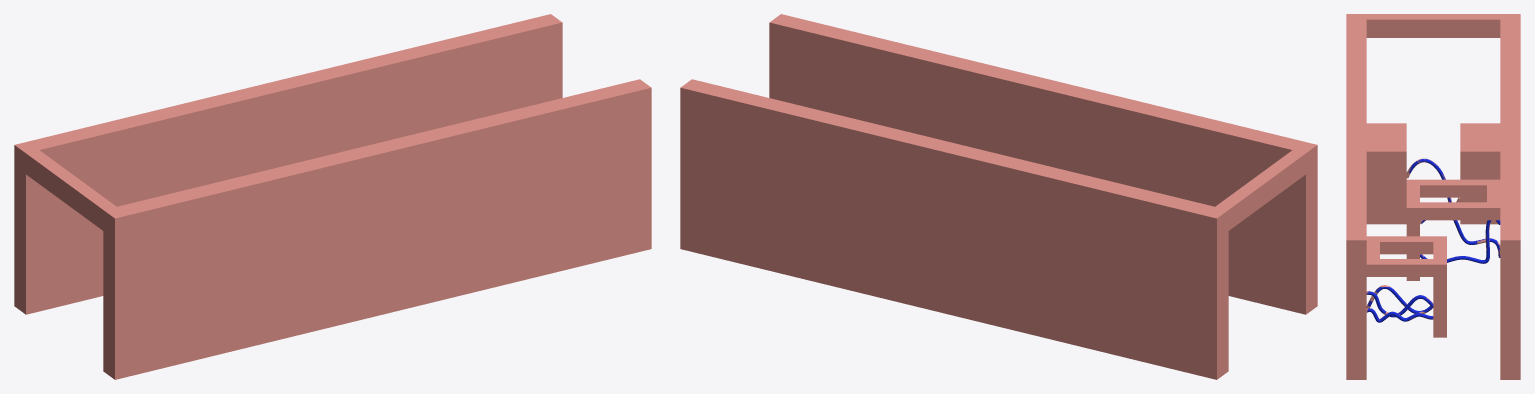
File: hard_experiment.dae
3 renders of one model, left to right at view 1: azimuth 30°, elevation 25°; view 2: azimuth 150°, elevation 25°; view 3: azimuth 270°, elevation 25°, orthographic. The views are drawn at different scales.
Visible parts, largest first — view 1: TRIAL2; view 2: TRIAL2; view 3: TRIAL2.
Boxes of the visible parts, x1,y1,x2,y2 form: TRIAL2: [14, 14, 651, 379]; TRIAL2: [680, 14, 1317, 379]; TRIAL2: [1346, 14, 1520, 379].
Bounding box in the file's own units: 40 × 13 × 11.5.
